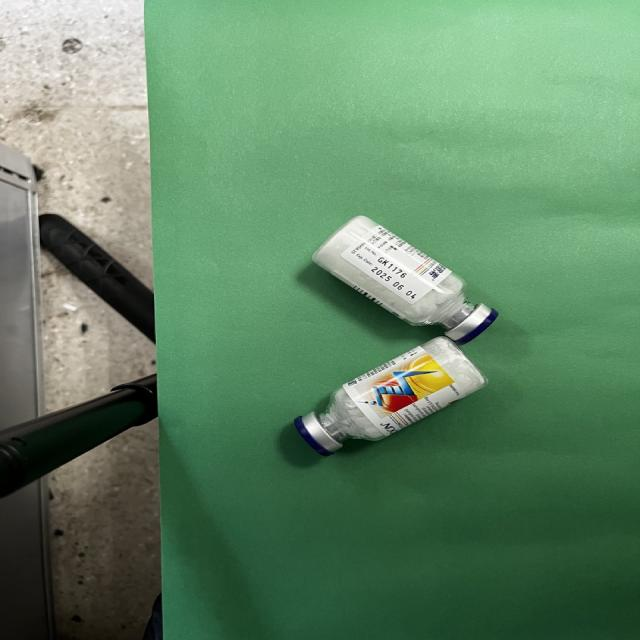Vials: (313, 216, 497, 344), (295, 338, 485, 455)
